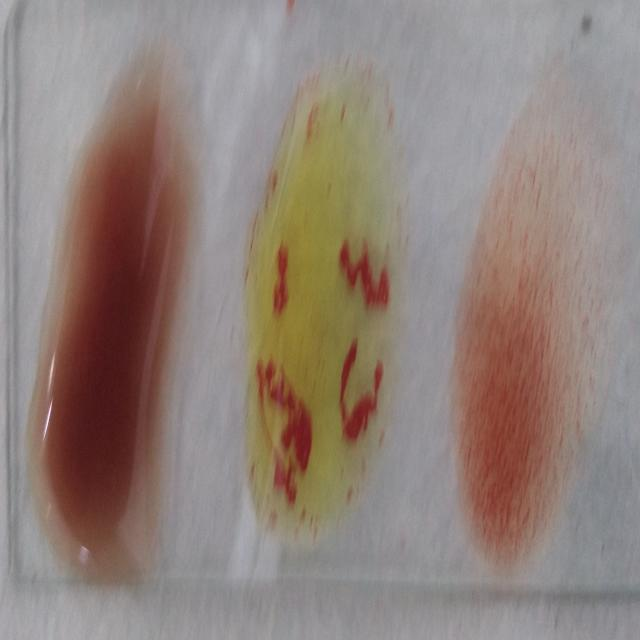B: (249, 81, 404, 533)
D: (464, 92, 595, 584)
